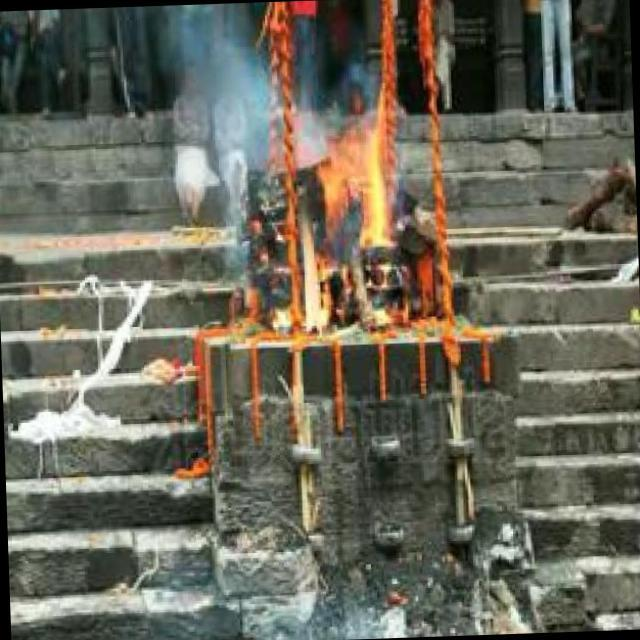Fire: (295, 97, 402, 338)
